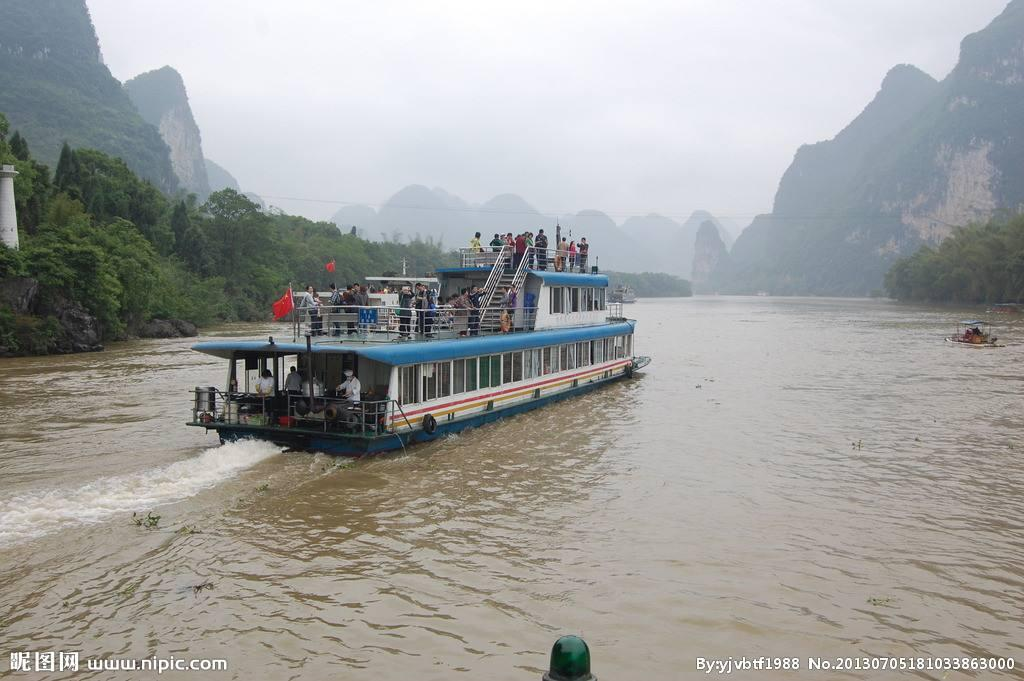otherboat: (190, 221, 642, 450)
